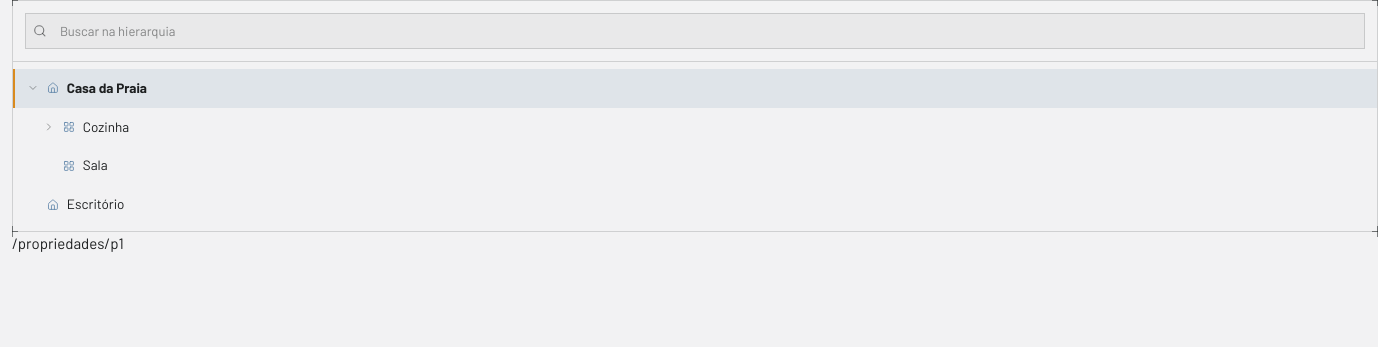
it: AnalysisTree — clique › abre o detalhe da área e do dispositivo
Check: the element showing "Casa da Praia Cozinha Sala Escritório" is shown, box [13, 69, 1377, 224]
Click the list item "Cozinha": (86, 126) [43, 118, 129, 134]
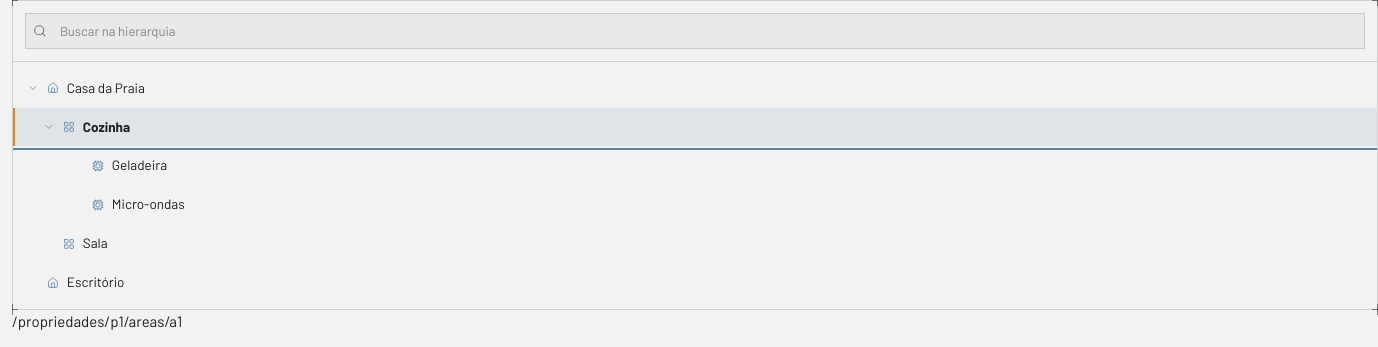
Check: the text with test id "pathname" reads "/propriedades/p1/areas/a1", box [12, 312, 182, 330]
Click the list item "Geladeira": (130, 165) [92, 156, 167, 173]
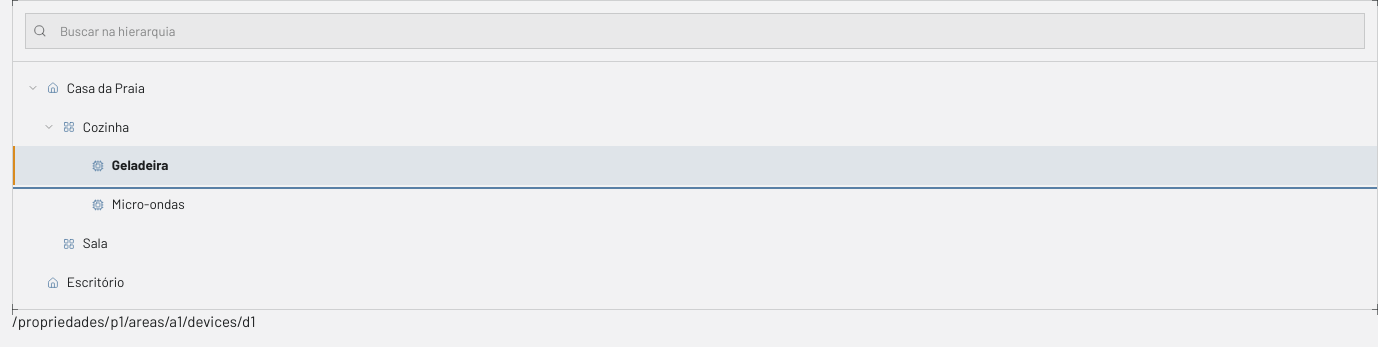
Check: the text with test id "pathname" reads "/propriedades/p1/areas/a1/devices/d1", box [12, 312, 256, 330]
